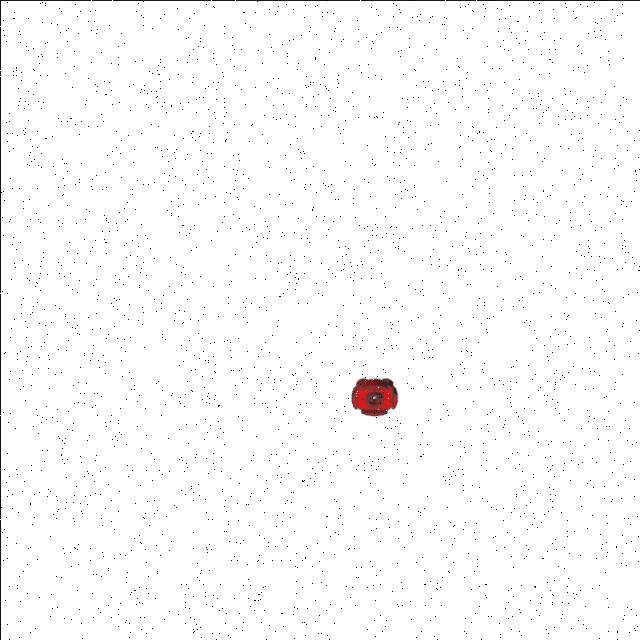4032a: (345, 372, 401, 420)
